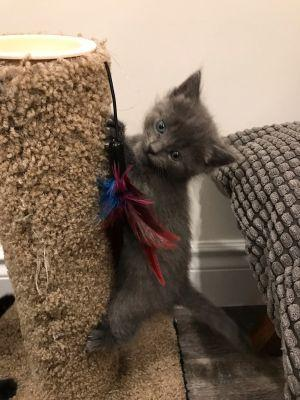rblue: (131, 65, 244, 187)
